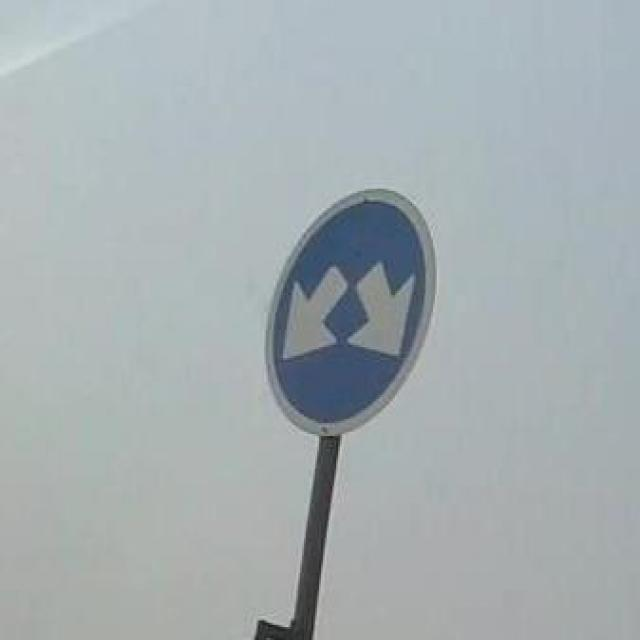traffic sign: (264, 191, 437, 436)
